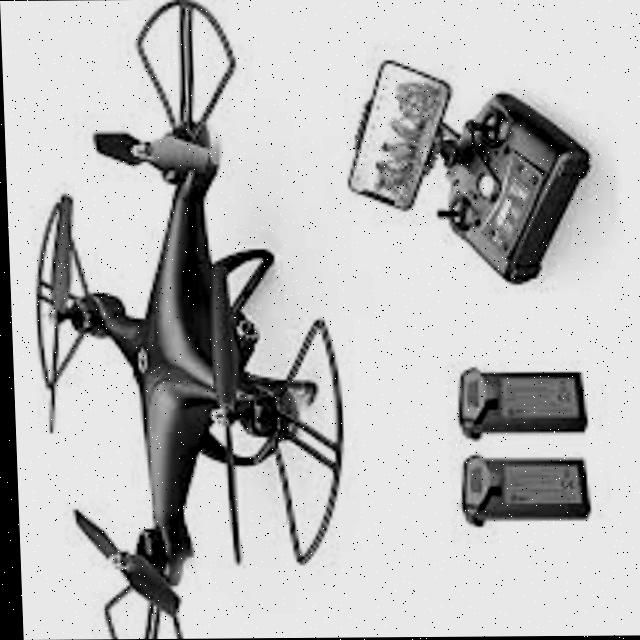drone: (1, 0, 370, 640)
